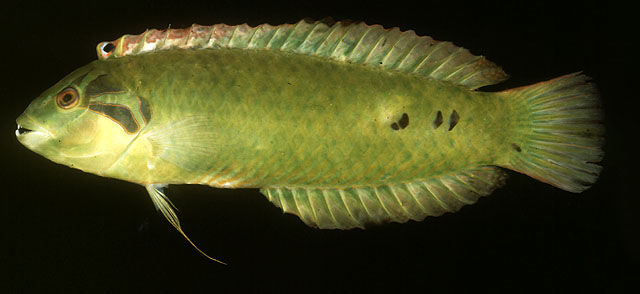fish: (16, 20, 605, 265)
